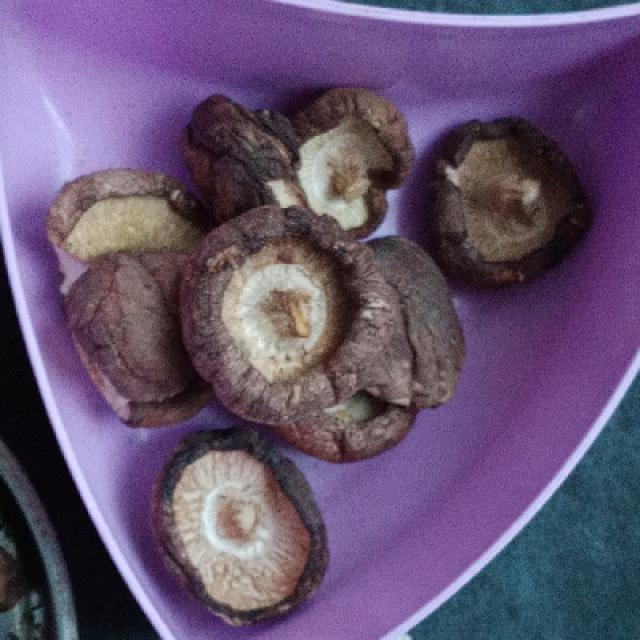Lentinus edodes: (184, 203, 395, 419), (158, 429, 327, 629), (433, 117, 603, 281), (60, 246, 211, 425), (293, 91, 419, 236), (46, 168, 198, 261), (195, 92, 301, 214)
